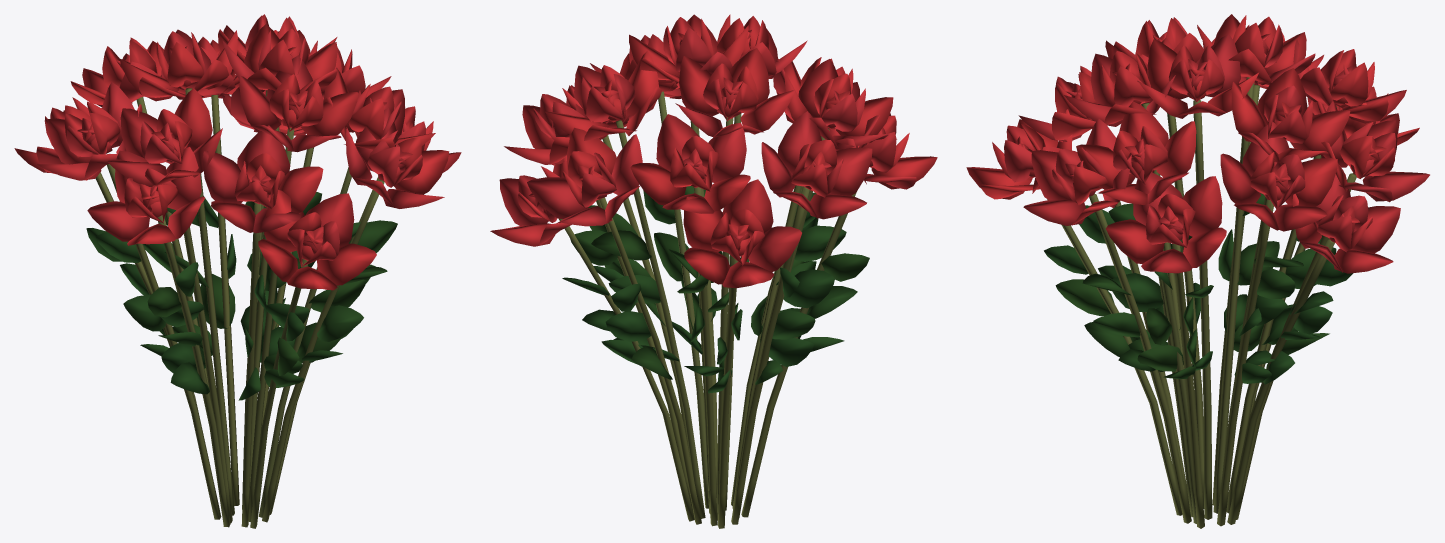
The model's file is bucket_roses_red.glb.
The picture shows the model from 3 angles, left to right: view 1: azimuth 30°, elevation 25°; view 2: azimuth 150°, elevation 25°; view 3: azimuth 270°, elevation 25°; orthographic projection.
Visible parts, largest first — view 1: Sammel Pflanze, Sammel Putz; view 2: Sammel Pflanze, Sammel Putz; view 3: Sammel Pflanze, Sammel Putz.
Part boxes in pixels (<box>): Sammel Pflanze: <box>14,14,461,400</box>; Sammel Putz: <box>95,88,384,528</box>; Sammel Pflanze: <box>490,14,937,393</box>; Sammel Putz: <box>559,91,856,528</box>; Sammel Pflanze: <box>966,14,1429,384</box>; Sammel Putz: <box>1047,77,1356,528</box>.
Bounding box in the file's own units: 0.4517 × 0.5586 × 0.4841.
